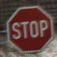stopsign: (7, 6, 54, 54)
